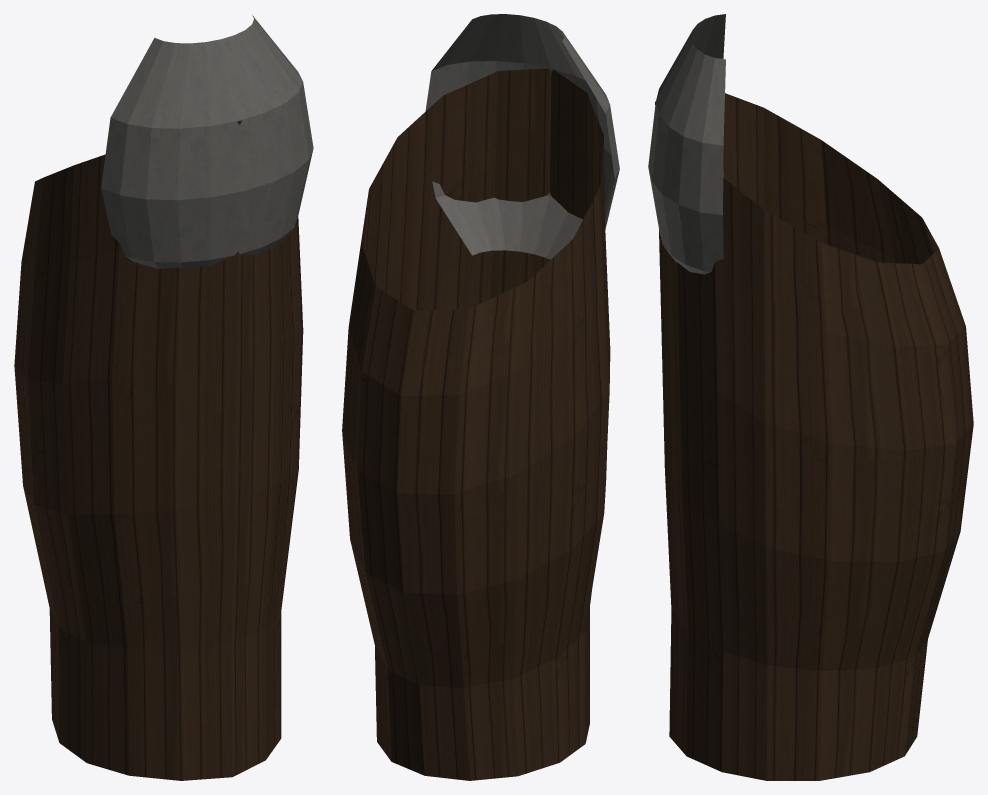
File: eq_past_1_leg.glb
3 views of the same model, side by side, from view 1: azimuth 30°, elevation 25°; view 2: azimuth 150°, elevation 25°; view 3: azimuth 270°, elevation 25° (orthographic). The views are drawn at different scales.
Visible parts, largest first — view 1: eq_past_1_leg; view 2: eq_past_1_leg; view 3: eq_past_1_leg.
Part boxes in pixels (bbox=[...]): eq_past_1_leg: bbox=[14, 15, 313, 780]; eq_past_1_leg: bbox=[342, 14, 619, 780]; eq_past_1_leg: bbox=[648, 14, 973, 780].
Bounding box in the file's own units: 0.1479 × 0.43 × 0.1813.
Materials: 2 (2 with a texture image).
